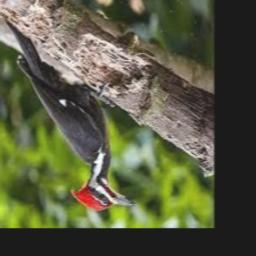Woodpecker: (3, 18, 136, 212)
